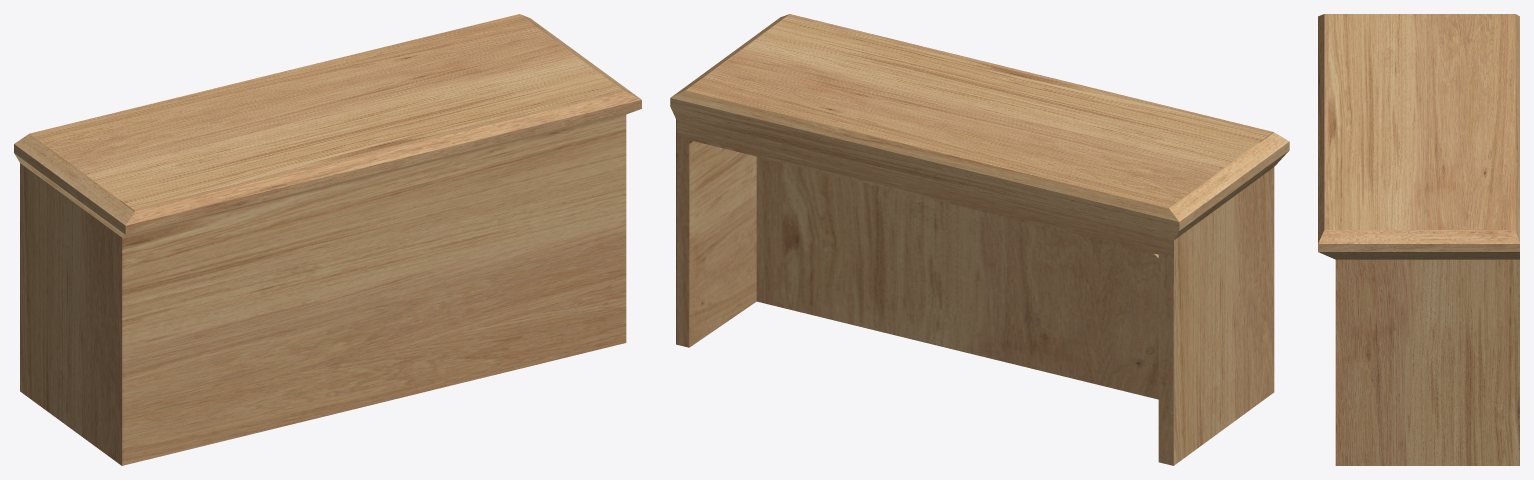
The model's file is caja-escritorio.glb.
3 renders of one model, left to right at view 1: azimuth 30°, elevation 25°; view 2: azimuth 150°, elevation 25°; view 3: azimuth 270°, elevation 25°, orthographic. The views are drawn at different scales.
Parts seen in each view (by area): view 1: Escritorio caja; view 2: Escritorio caja; view 3: Escritorio caja.
Part boxes in pixels (box(x1,y1,x2,y2)): Escritorio caja: box(14, 14, 641, 465); Escritorio caja: box(670, 14, 1289, 465); Escritorio caja: box(1318, 14, 1519, 465).
Size of the model in its own units: 5.84 by 2.79 by 2.19.
1 material, 1 textured.
